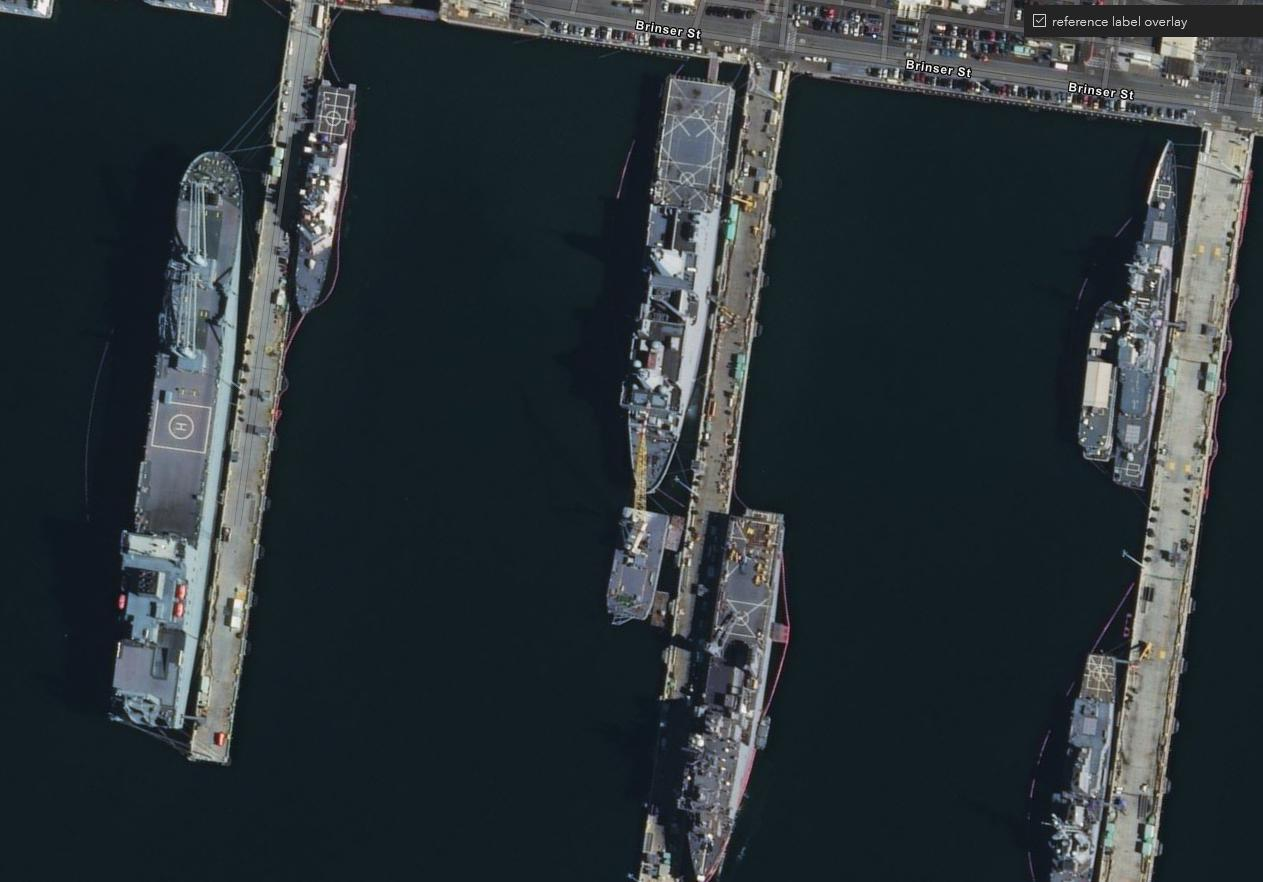amphiby: (614, 75, 743, 502)
destroyer: (1110, 134, 1198, 491)
supply: (103, 145, 259, 737)
